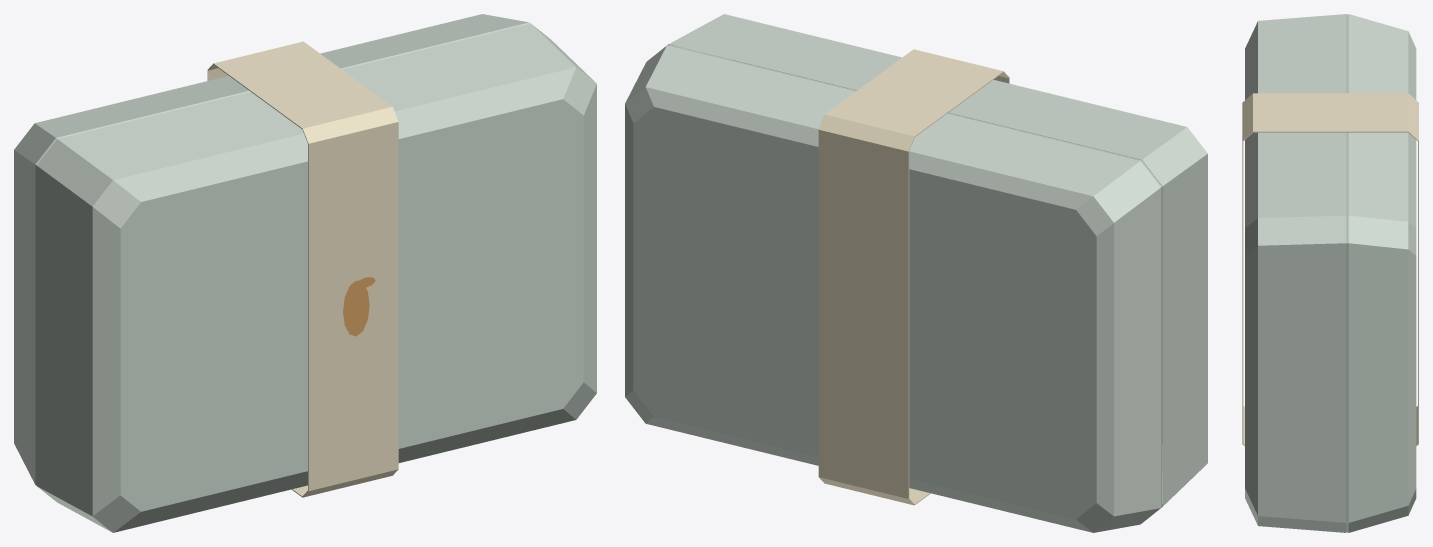
Rendered from cannoli.glb.
3 renders of one model, left to right at view 1: azimuth 30°, elevation 25°; view 2: azimuth 150°, elevation 25°; view 3: azimuth 270°, elevation 25°, orthographic. The views are drawn at different scales.
Visible parts, largest first — view 1: cannoli; view 2: cannoli; view 3: cannoli.
Part boxes in pixels (<box>): cannoli: <box>14,14,596,532</box>; cannoli: <box>625,14,1207,532</box>; cannoli: <box>1242,14,1418,532</box>.
Size of the model in its own units: 0.2 by 0.137 by 0.0705.
